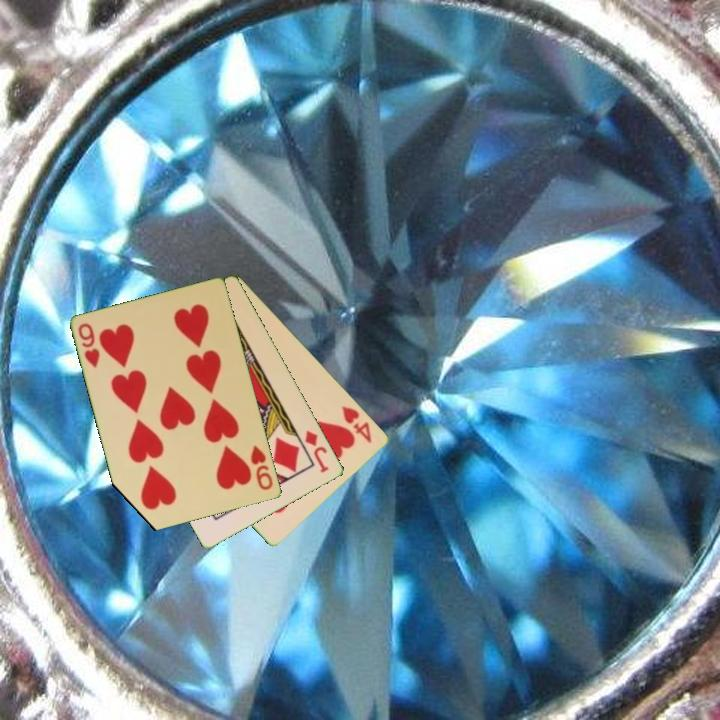4h: (338, 402, 375, 446)
9h: (247, 442, 276, 493), (75, 320, 103, 371)
Jd: (302, 426, 332, 476)
